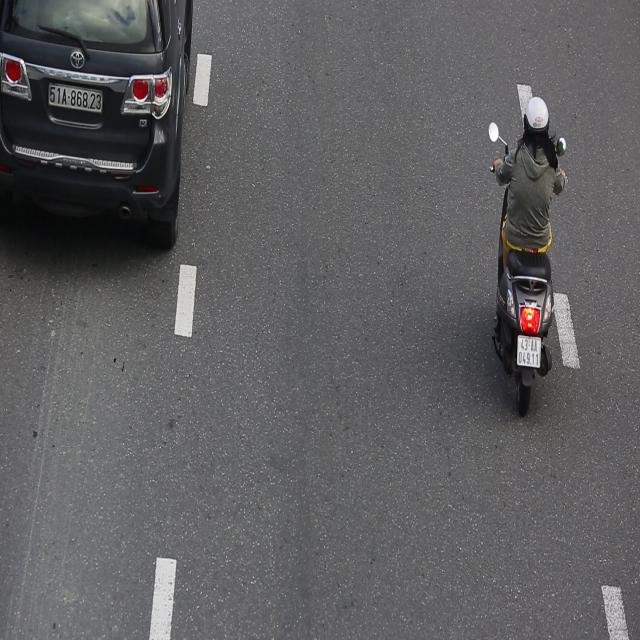motorbike: (486, 96, 571, 418)
